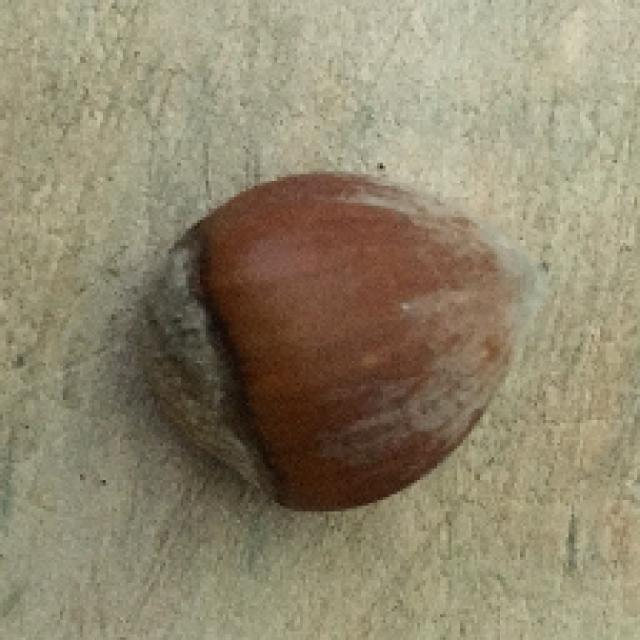QualityHazelnut: (126, 168, 554, 514)
